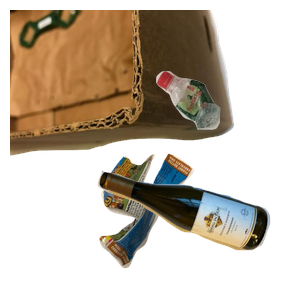cardboard: (10, 10, 237, 158)
glass: (95, 168, 300, 300)
plastic: (153, 68, 300, 190)
trash: (97, 151, 283, 300)
